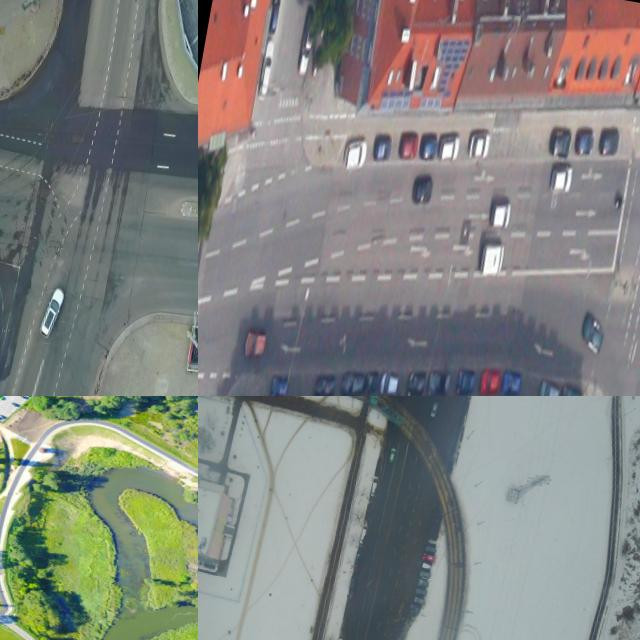UAI: (37, 284, 66, 341), (578, 310, 608, 356), (298, 11, 317, 76), (257, 40, 276, 98), (342, 136, 369, 172), (425, 365, 451, 396), (550, 162, 575, 194), (597, 124, 621, 156), (489, 198, 513, 230), (371, 130, 394, 163), (411, 172, 434, 204), (397, 129, 420, 161), (312, 368, 337, 396), (454, 365, 476, 396), (340, 369, 365, 396), (438, 133, 462, 161), (243, 330, 267, 358), (478, 367, 501, 396), (266, 0, 285, 34), (549, 128, 572, 156), (500, 368, 522, 396), (405, 368, 427, 396), (469, 132, 491, 159), (574, 127, 595, 155), (419, 132, 439, 160), (378, 371, 399, 396), (362, 367, 379, 396), (268, 373, 288, 396), (537, 378, 561, 396), (558, 384, 583, 396), (358, 527, 367, 545), (430, 402, 439, 418), (349, 573, 357, 591), (388, 446, 396, 463), (354, 549, 362, 566), (422, 552, 435, 562), (408, 604, 421, 614), (369, 481, 377, 497), (424, 545, 437, 554), (418, 570, 431, 579), (417, 579, 430, 588), (415, 588, 428, 596), (421, 562, 432, 571), (413, 596, 425, 604)
harvester: (478, 239, 506, 278)
